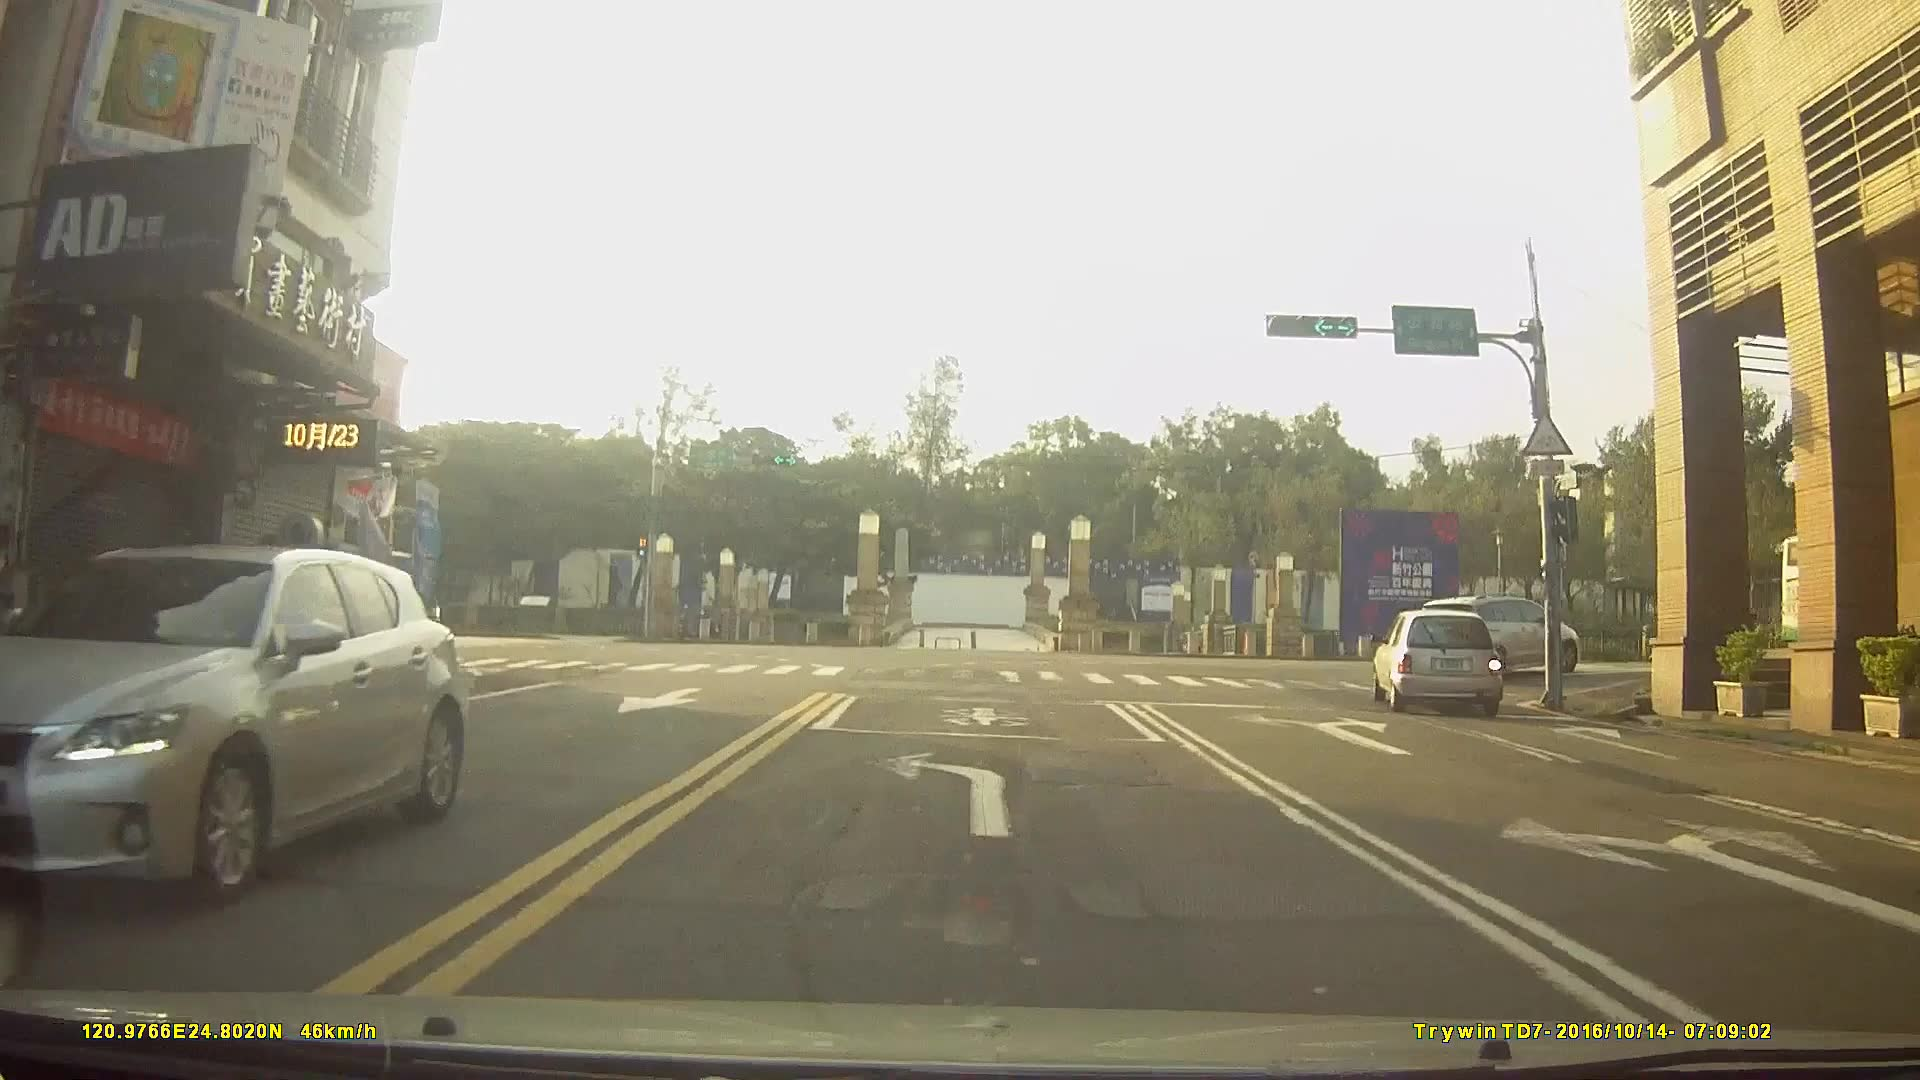vehicle: (0, 538, 467, 911), (1371, 608, 1505, 716), (1414, 595, 1580, 680)
